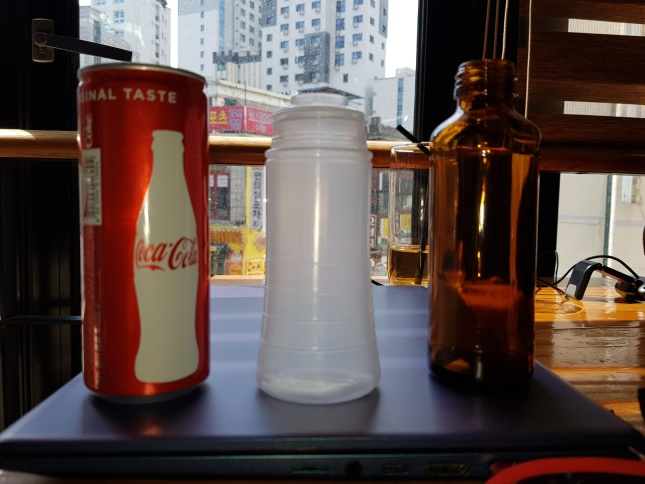Can: (71, 61, 215, 402)
Glass: (422, 56, 545, 396)
Plastic: (251, 102, 384, 407)
